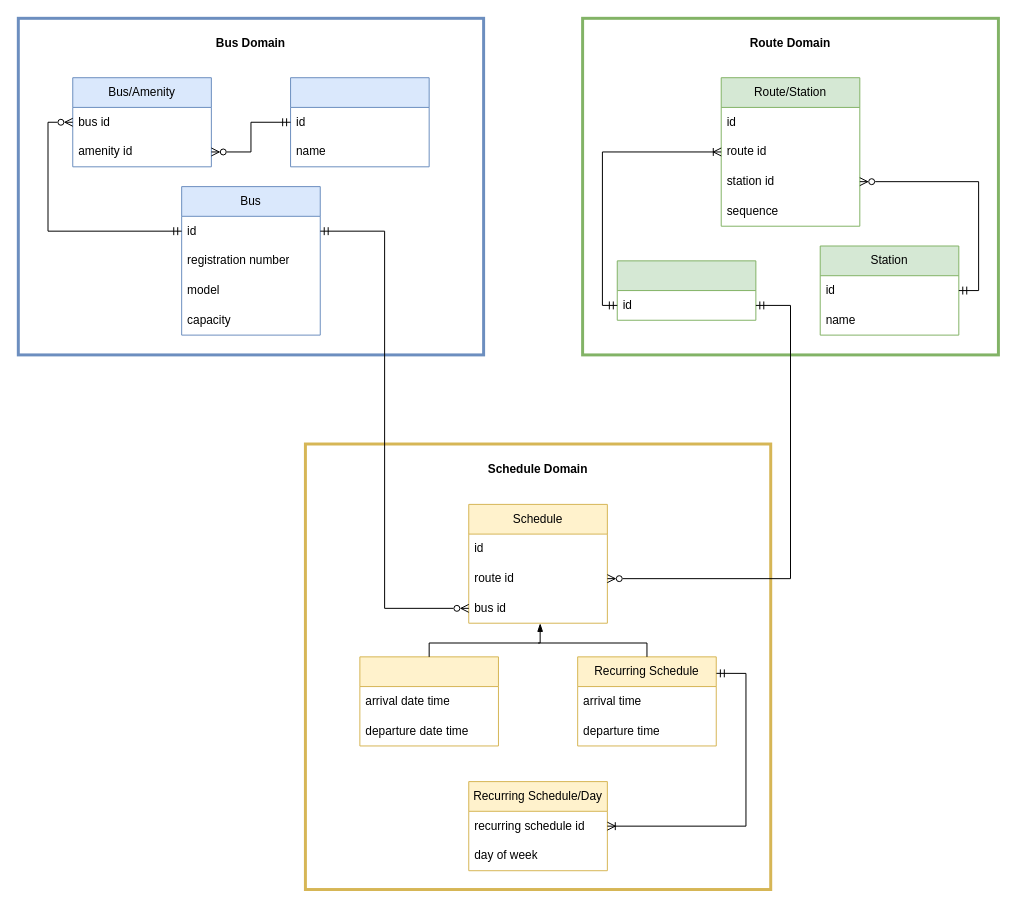
Some shapes in this 1017 by 908 pixel diagram are drawn without their labels. Here are the shapes that lost their labels. From the top down, the box of each, then its label:
(290, 77, 429, 167): Amenity
(616, 260, 756, 320): Route
(359, 656, 498, 746): Single Schedule
